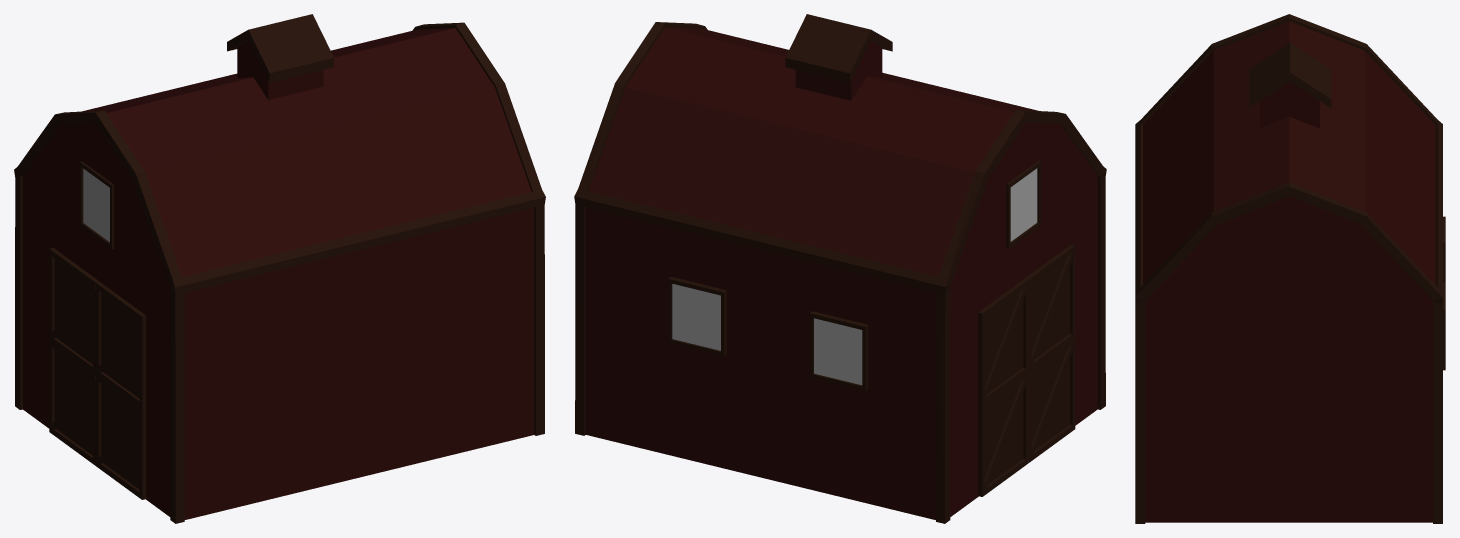
The model's file is Barn.fbx.
The picture shows the model from 3 angles, left to right: view 1: azimuth 30°, elevation 25°; view 2: azimuth 150°, elevation 25°; view 3: azimuth 270°, elevation 25°; orthographic projection. The views are drawn at different scales.
Parts seen in each view (by area): view 1: Barn; view 2: Barn; view 3: Barn.
Boxes of the visible parts, x1,y1,x2,y2 form: Barn: (14,14,545,523); Barn: (574,14,1106,523); Barn: (1135,14,1445,523).
Bounding box in the file's own units: 290 × 297 × 219.
